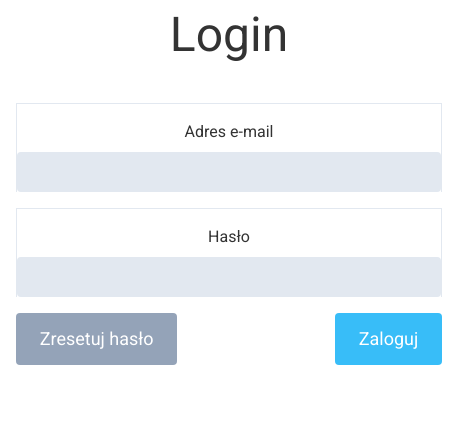
Test: Login › should display general error when response is not ok
In the field labelled "Adres e-mail": (229, 172) [17,152,441,192], type "test@email"
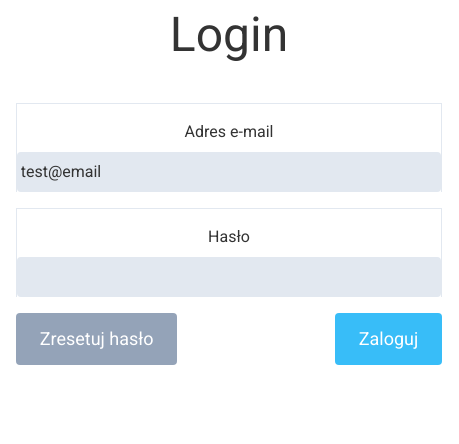
In the password field labelled "Hasło": (229, 277) [17,257,441,297], type "password"
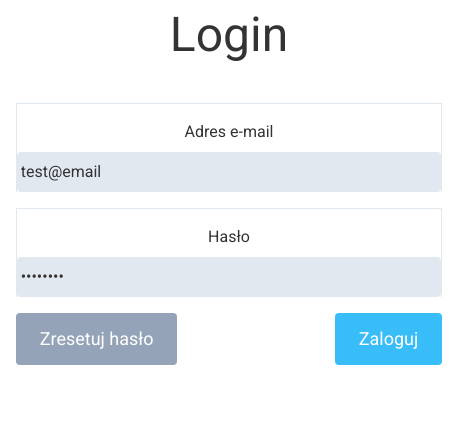
Click the button: (389, 339) [335,313,442,365]
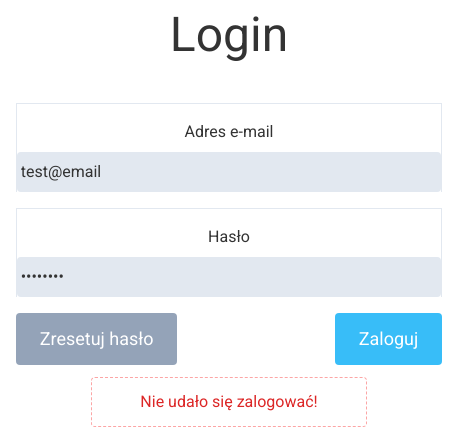
Check: the text "Nie udało się zalogować!" is shown, box [91,377,367,427]
